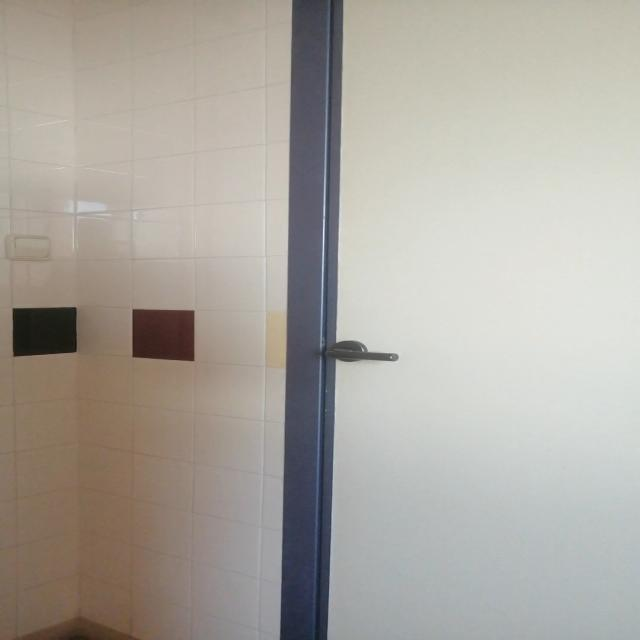door_handle: (315, 347, 402, 364)
